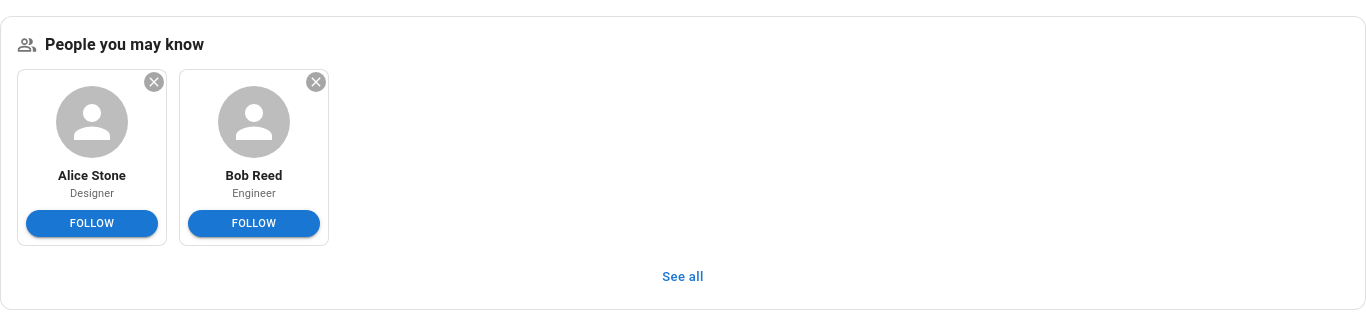
Test: MobileSuggestions › dismissing a card removes it from the strip
Expected: the text "Alice Stone" is shown, 58,168 -> 126,183
Click the 1st button named "dismiss suggestion": (154, 82) 144,72 -> 164,92
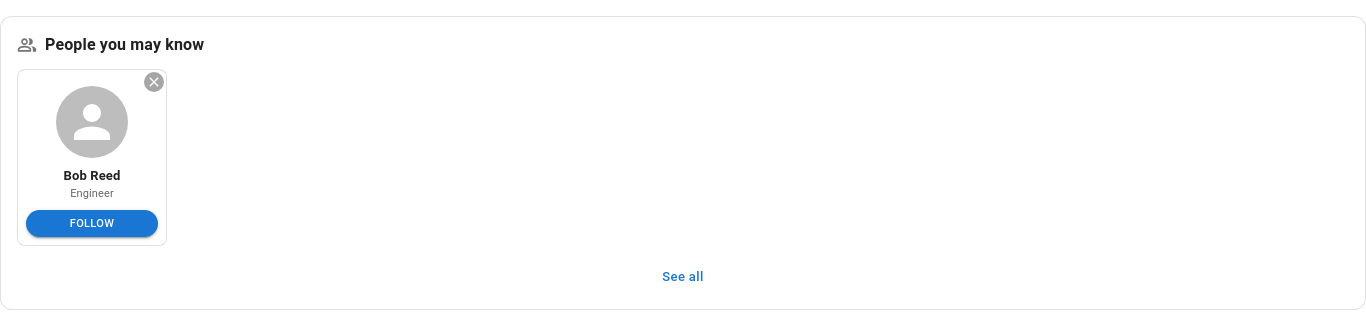
Expected: the text "Bob Reed" is shown, 64,168 -> 120,183
Expected: the text "Alice Stone" is gone
